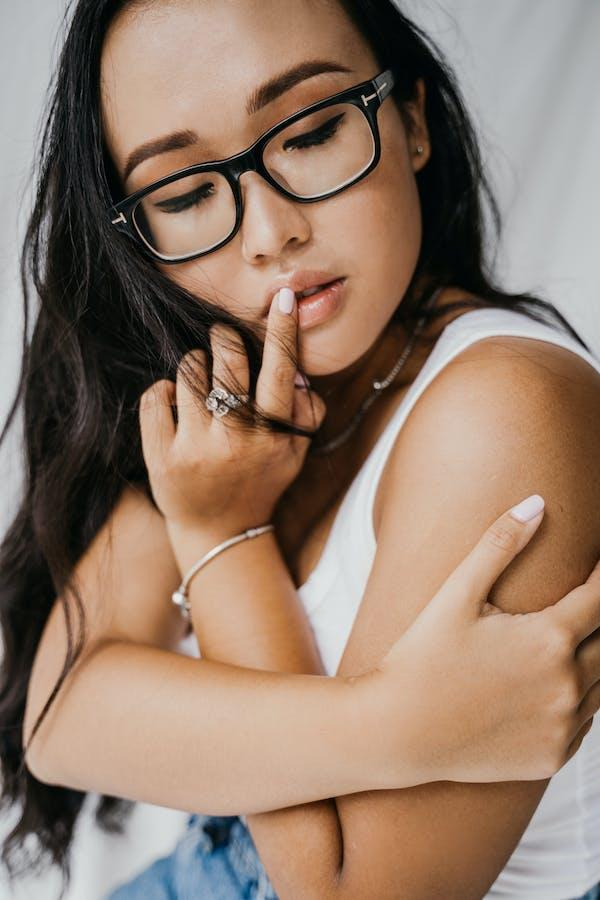spectacles: (113, 70, 385, 270)
